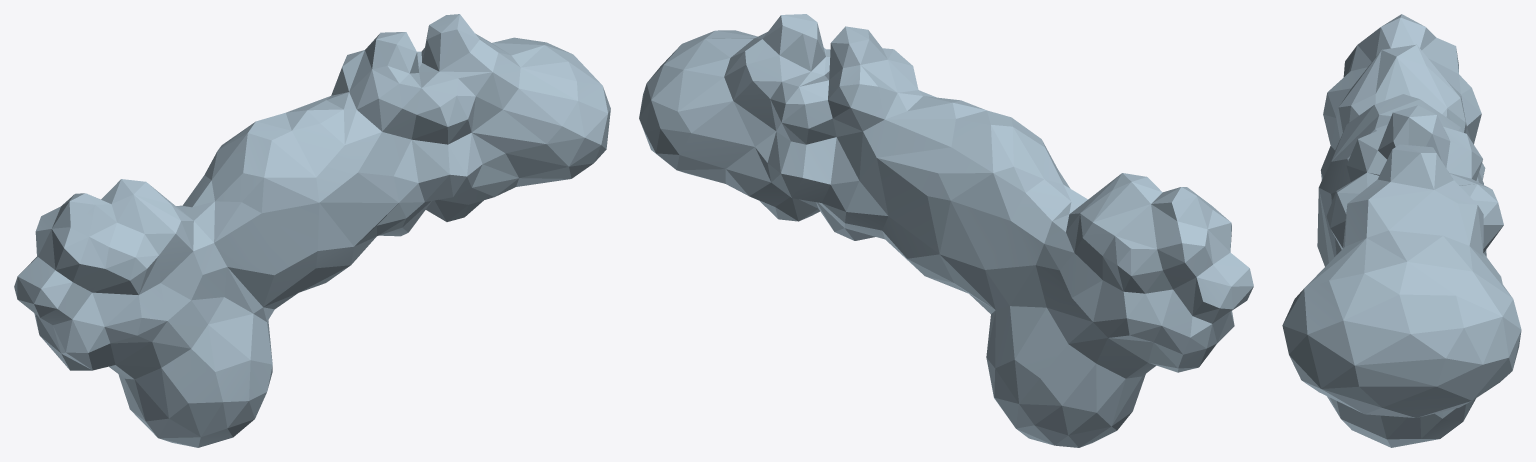
File: stylize_cloud_8.fbx
The picture shows the model from 3 angles, left to right: view 1: azimuth 30°, elevation 25°; view 2: azimuth 150°, elevation 25°; view 3: azimuth 270°, elevation 25°; orthographic projection. The views are drawn at different scales.
Parts seen in each view (by area): view 1: cloud_88; view 2: cloud_88; view 3: cloud_88.
Part boxes in pixels (x1,y1,x2,y2): cloud_88: (14,14,610,447); cloud_88: (639,14,1253,447); cloud_88: (1282,14,1521,447).
Bounding box in the file's own units: 671 × 402 × 192.
